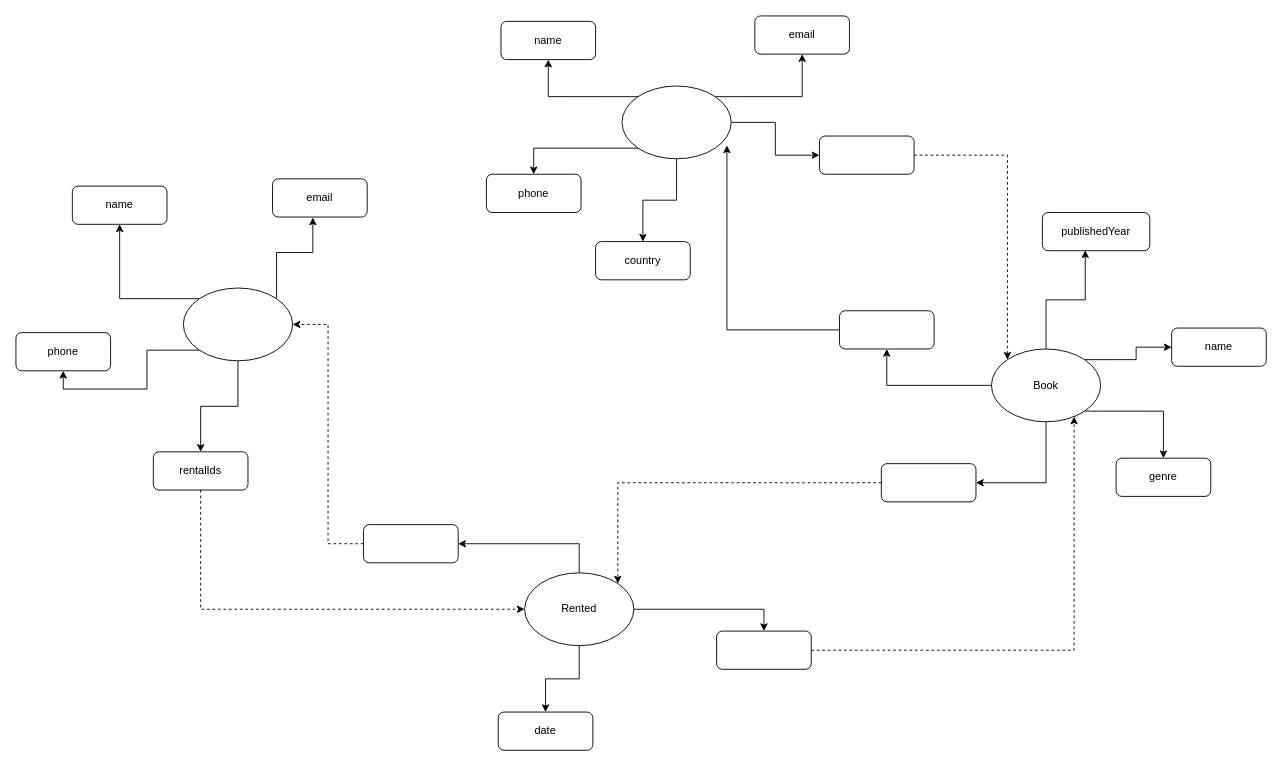
The diagram is 1282 pixels wide and 766 high, and some of its shapes have lost their labels. The shapes that lost their labels are listed below. From the top down, each one's box as (x1, y1, x2, y2) in pixels, then its label:
(621, 85, 731, 159): Author
(819, 135, 914, 174): bookIds
(182, 287, 293, 361): User
(839, 310, 934, 349): authorIds
(880, 463, 976, 502): rentalId
(363, 524, 458, 563): userId
(716, 630, 811, 669): bookId
